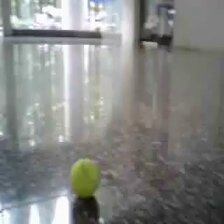tennis: (69, 158, 97, 196)
